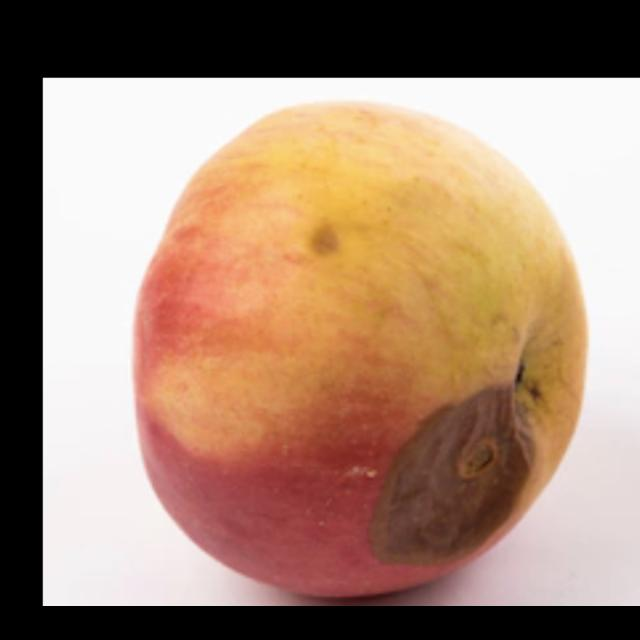Apel Tidak Segar: (129, 100, 589, 604)
